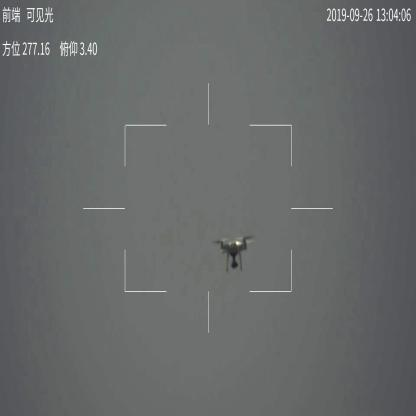uav: (210, 231, 256, 272)
